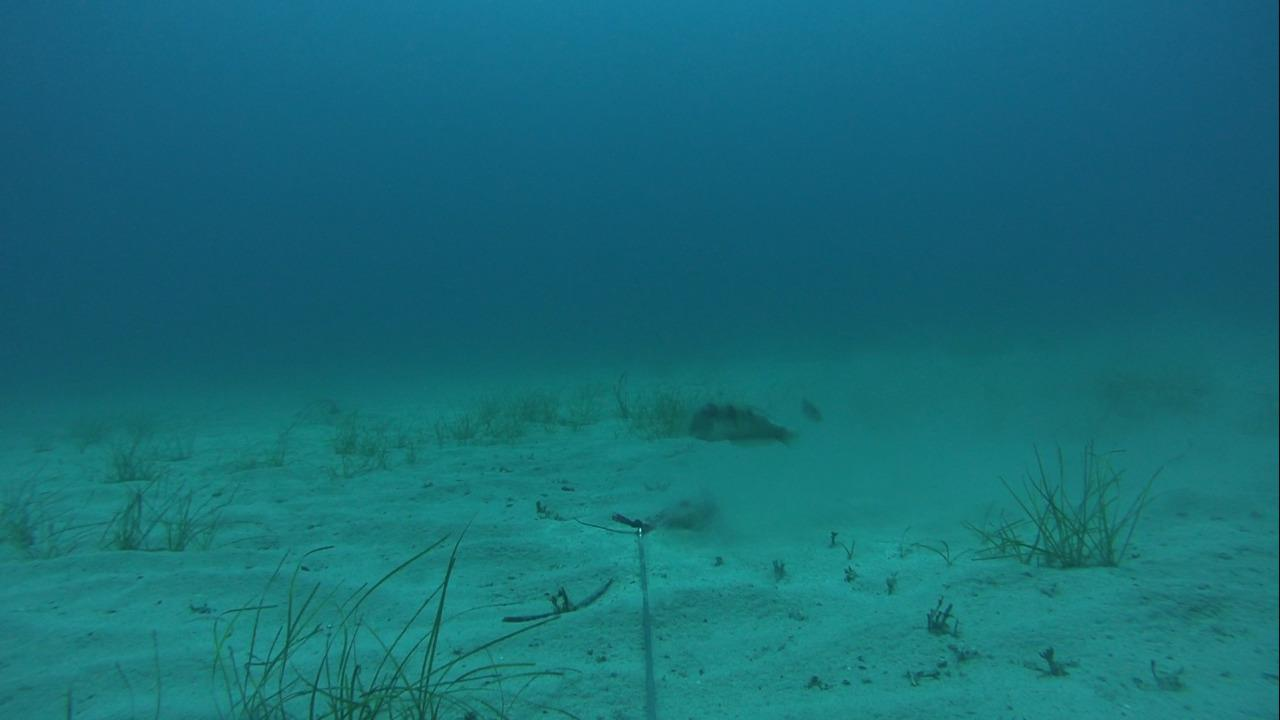raor: (684, 394, 797, 453), (799, 393, 825, 426)
